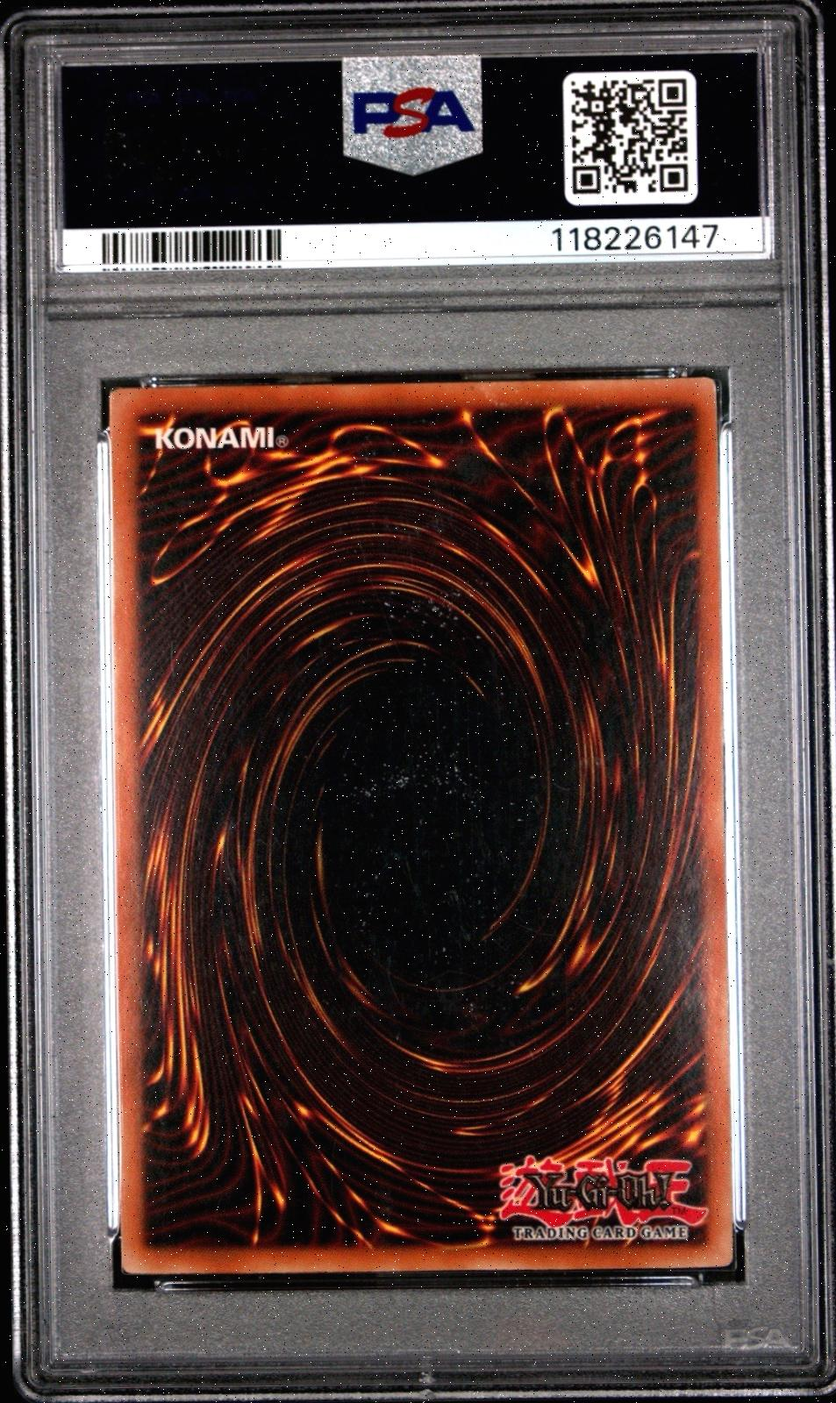card-2UtV: (108, 376, 733, 1275)
